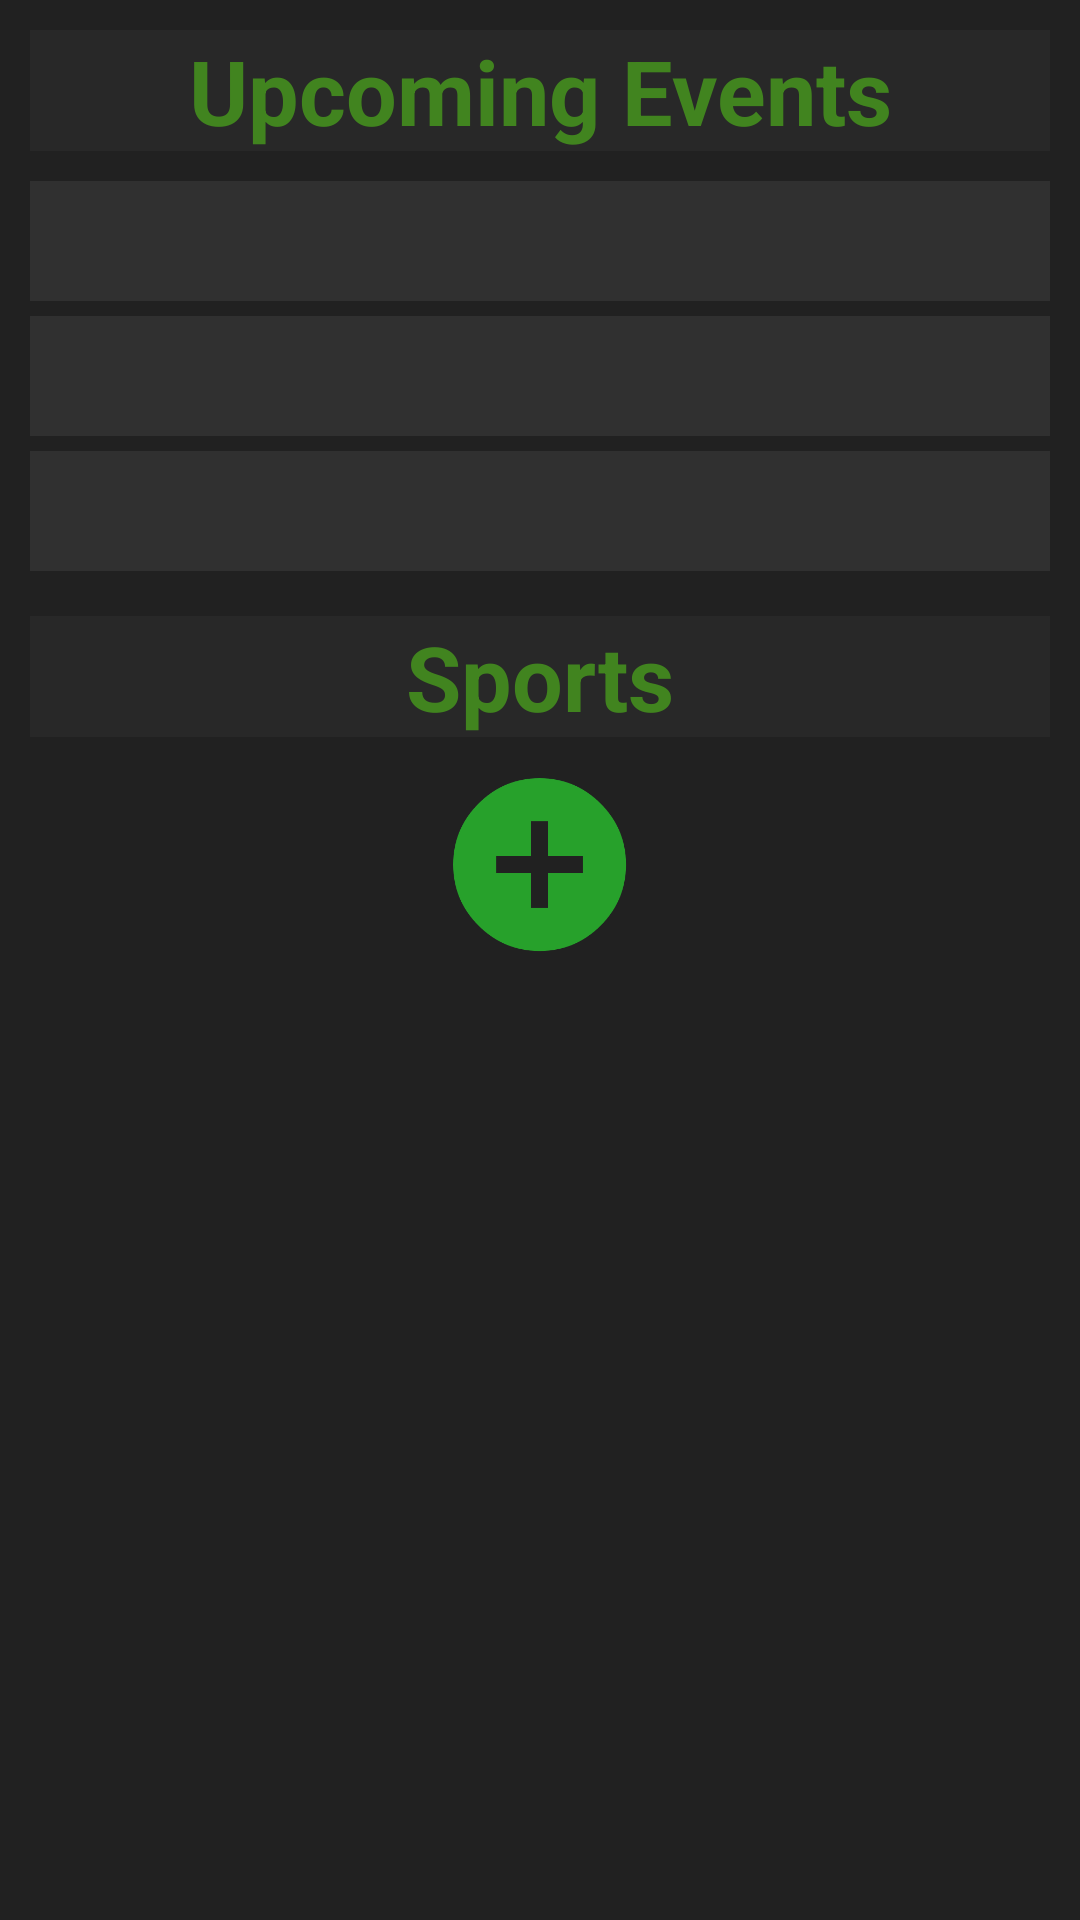

Screen size 1080w x 1920h. Icon name, then its center in pixels as [x,y]:
add circle: [539,864]
